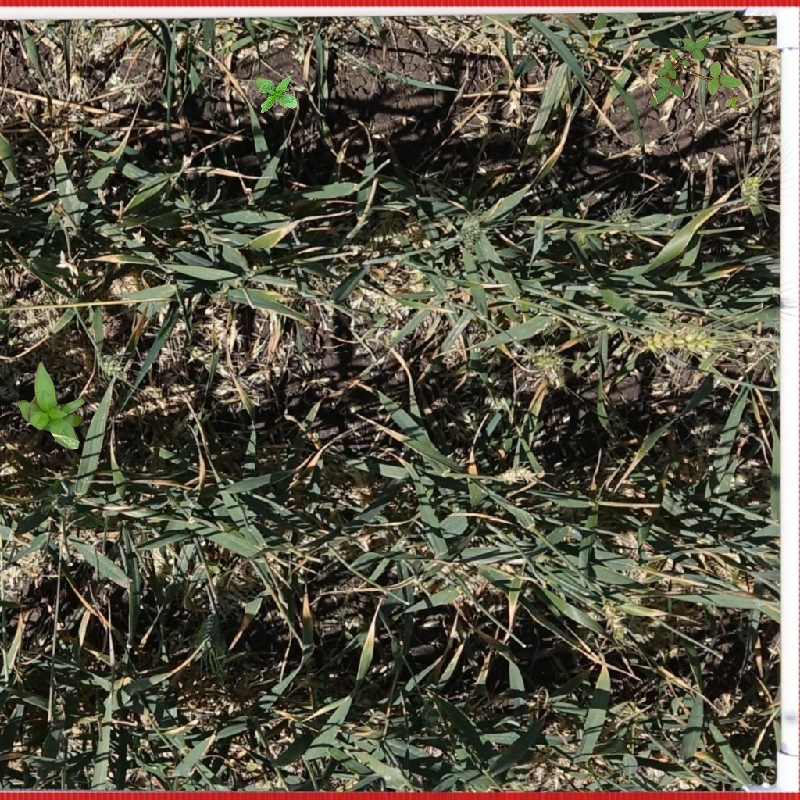spikelet: (641, 321, 721, 356), (527, 343, 567, 386), (192, 611, 222, 654), (95, 349, 128, 382), (737, 170, 764, 207), (456, 212, 485, 245), (604, 205, 636, 231)
weed: (633, 22, 759, 116), (15, 364, 83, 449), (257, 73, 302, 117)
